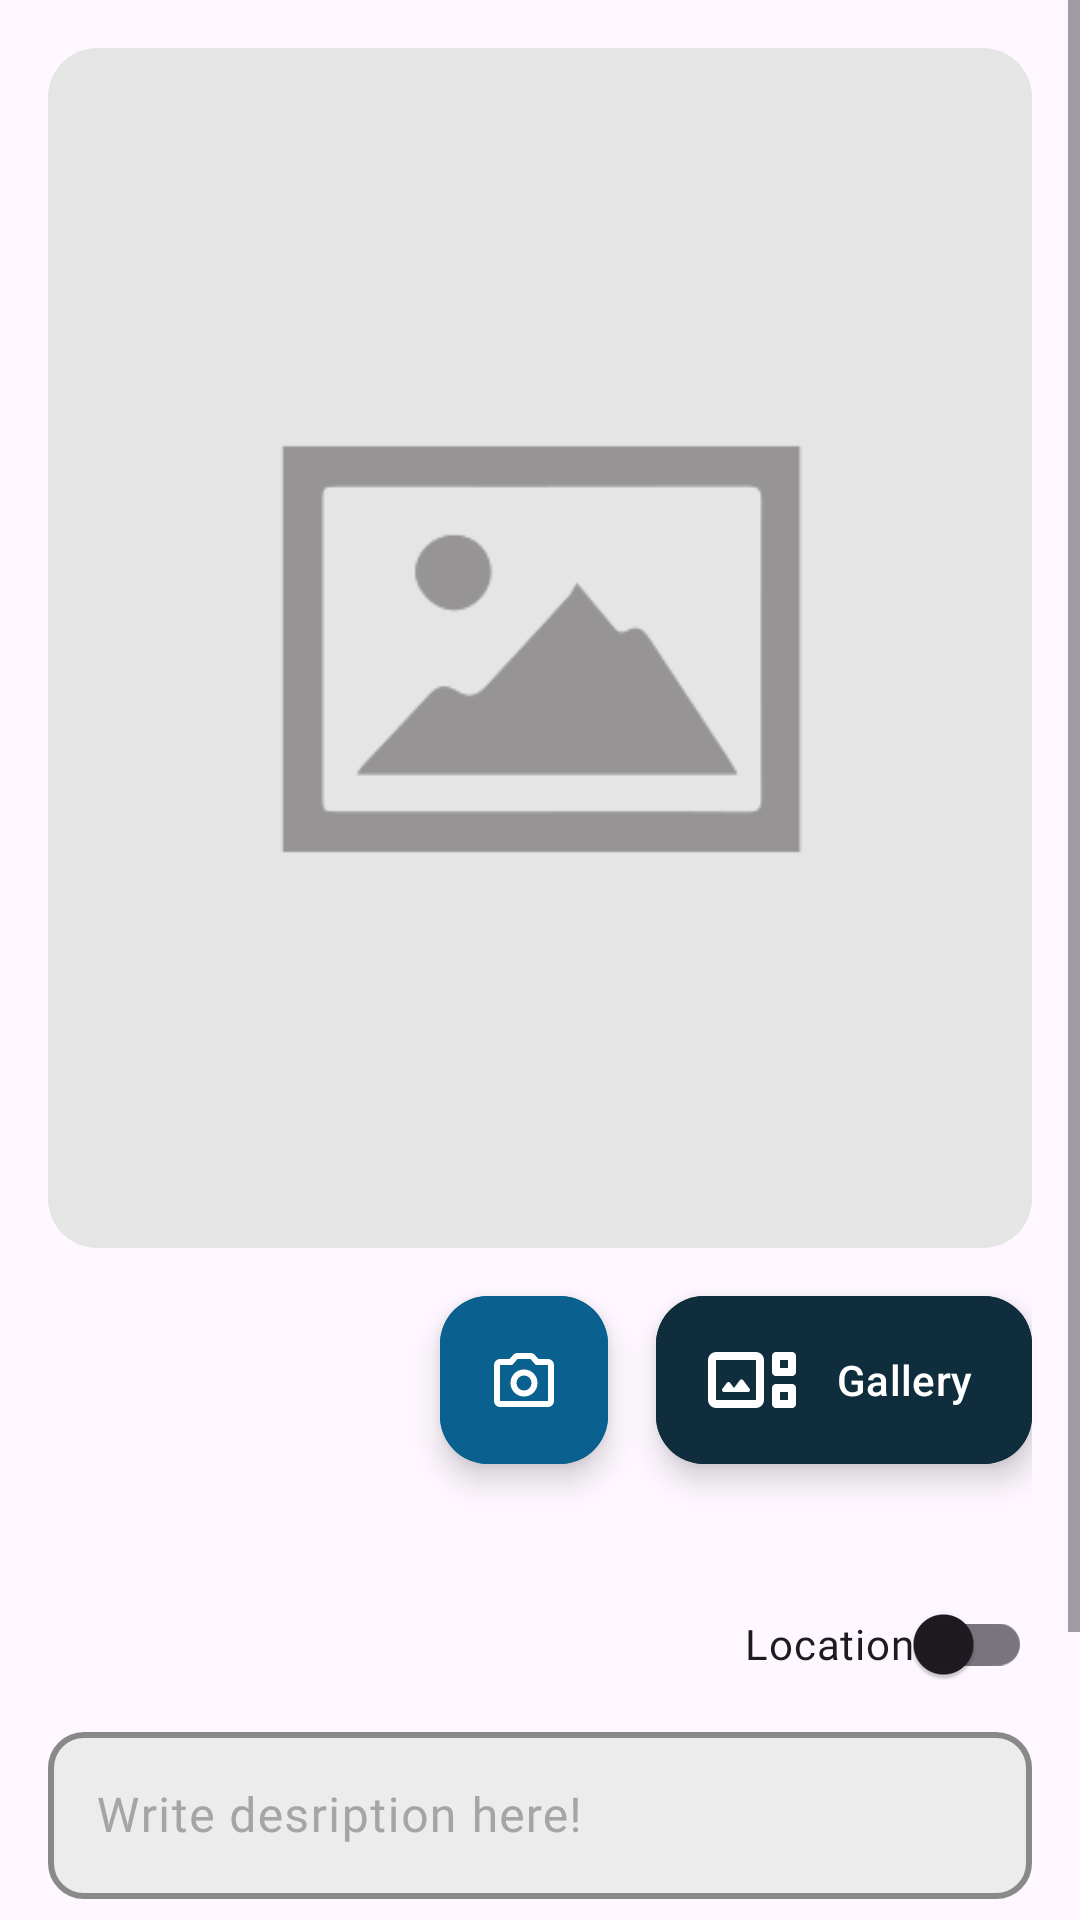

Locate icon controls on the screen. Image size 1080 x 1920, boxes as {"x1": x1, "y1": y1, "x2": x2, "y2": y2}.
photo camera: {"x1": 440, "y1": 1296, "x2": 608, "y2": 1464}
